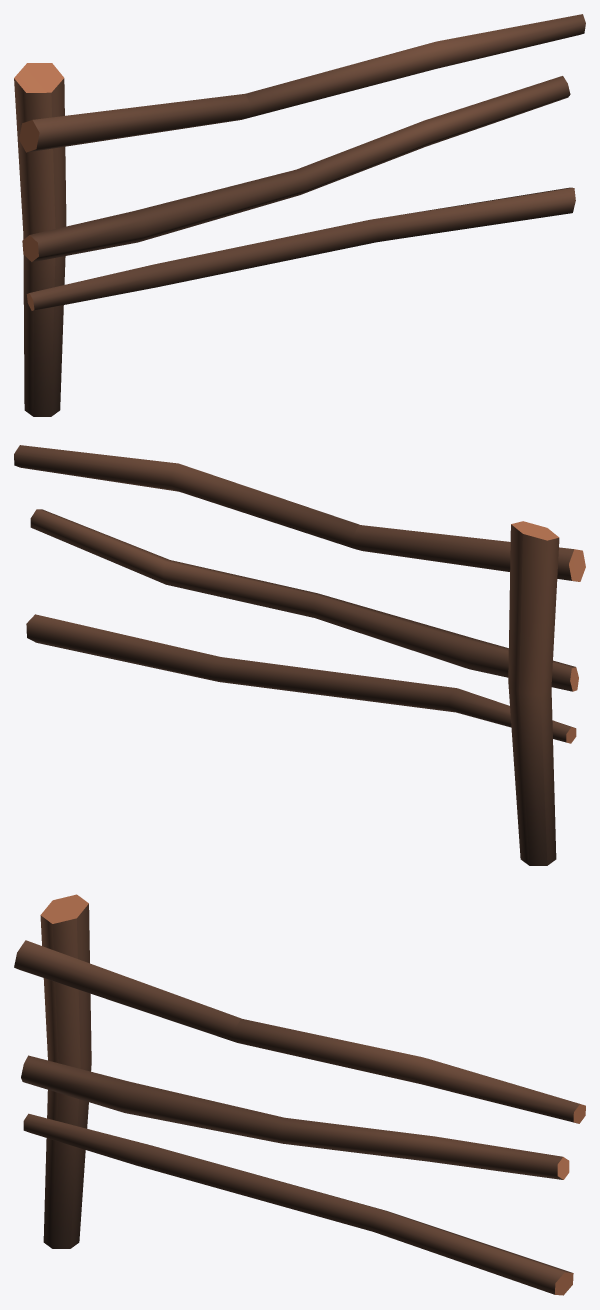
The model's file is Fence_2C_Part_1.fbx.
The picture shows the model from 3 angles, top to bottom: view 1: azimuth 30°, elevation 25°; view 2: azimuth 150°, elevation 25°; view 3: azimuth 330°, elevation 25°; orthographic projection.
Parts seen in each view (by area): view 1: Fence_2C_Part_1; view 2: Fence_2C_Part_1; view 3: Fence_2C_Part_1.
Part boxes in pixels (box(x1,y1,x2,y2)): Fence_2C_Part_1: box(14, 14, 585, 416); Fence_2C_Part_1: box(14, 445, 585, 865); Fence_2C_Part_1: box(14, 894, 585, 1295).
Size of the model in its own units: 227 by 131 by 27.91.
